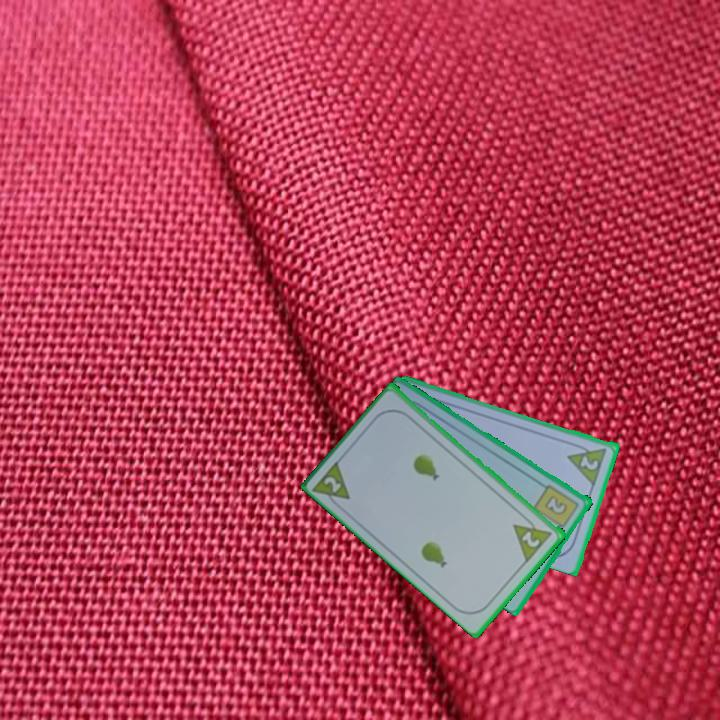2b: (531, 481, 582, 535)
2p: (518, 527, 543, 551), (320, 473, 345, 496), (577, 452, 602, 473)
